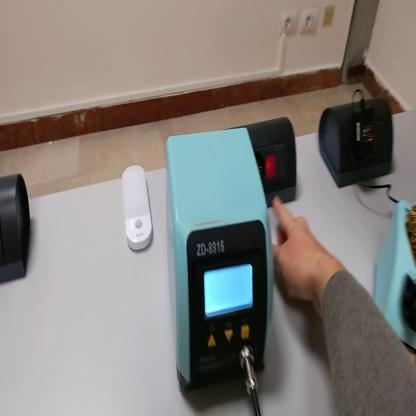hand: (271, 195, 327, 307)
socket: (319, 96, 399, 188), (228, 117, 303, 209)
welder base: (372, 198, 416, 355)
welder station: (166, 127, 277, 392)
